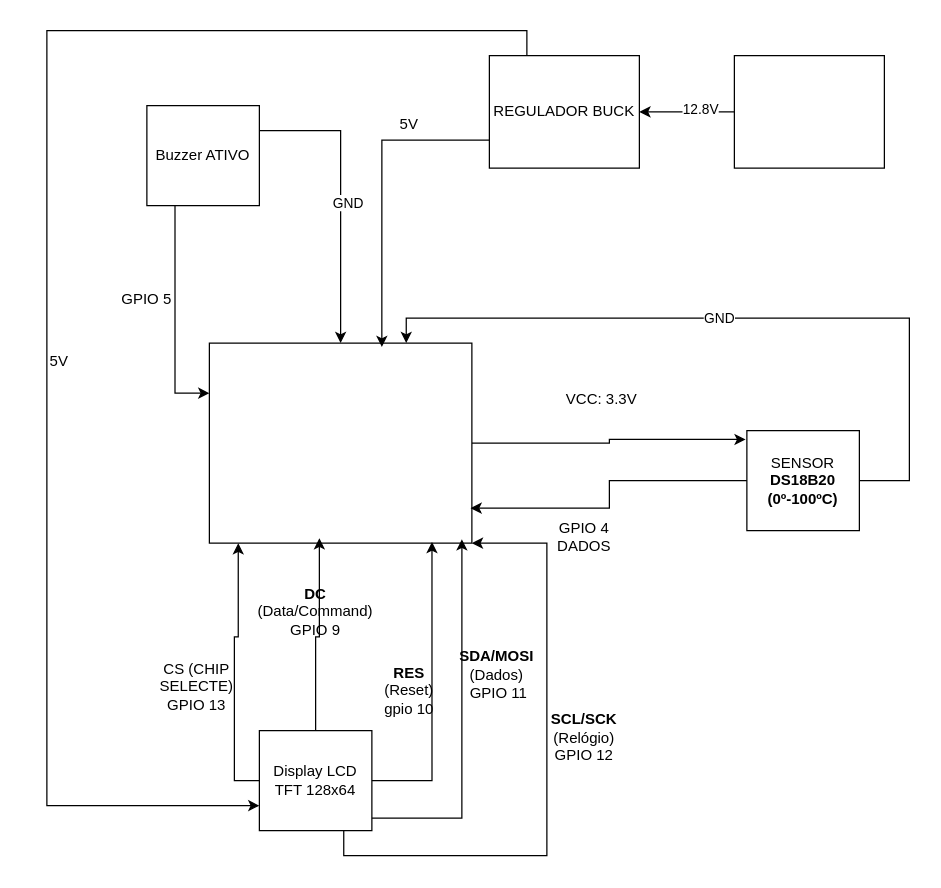
Some shapes in this 941 by 888 pixel diagram are drawn without their labels. Each missing label, with the centre of its shape:
"BLOCO DE ENERGIA LiFePO4 4S" goes at point 808,111.
"ESPE32-S3" goes at point 340,442.
